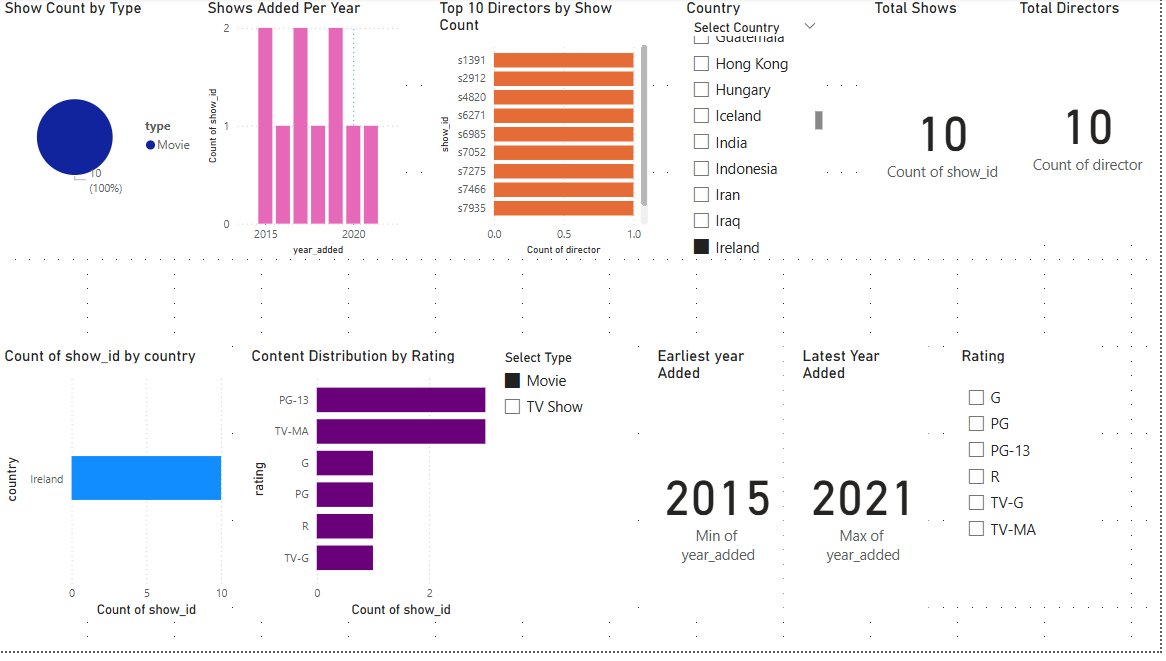

This screenshot's page, from the dashboard's own definition file:
{"tool":"powerbi","page":{"name":"Page 1","canvas":[1280,720],"ordinal":0},"visuals":[{"type":"pieChart","fields":{"Category":["netflix_titles.type"],"Y":["CountNonNull(netflix_titles.show_id)"]},"box":[0,0,224,288],"z":0},{"type":"clusteredColumnChart","fields":{"Category":["netflix_titles.year_added"],"Y":["CountNonNull(netflix_titles.show_id)"]},"box":[272,0,272,288],"z":1000},{"type":"barChart","fields":{"Category":["netflix_titles.country"],"Y":["CountNonNull(netflix_titles.show_id)"]},"box":[0,384,384,272],"z":2000},{"type":"barChart","fields":{"Category":["netflix_titles.show_id"],"Y":["CountNonNull(netflix_titles.director)"]},"box":[560,0,272,288],"z":3000},{"type":"clusteredBarChart","fields":{"Category":["netflix_titles.rating"],"Y":["CountNonNull(netflix_titles.show_id)"]},"box":[560,384,272,272],"z":4000}]}

Visuals, with their boxes in screenshot pixels (x1, y1, x2, y2), scaled from the page's 1280x720 canvas onto the 1166x661 screenshot:
pieChart - netflix_titles.type x CountNonNull(netflix_titles.show_id): pyautogui.locateOnScreen(0, 0, 204, 264)
clusteredColumnChart - netflix_titles.year_added x CountNonNull(netflix_titles.show_id): pyautogui.locateOnScreen(248, 0, 496, 264)
barChart - netflix_titles.country x CountNonNull(netflix_titles.show_id): pyautogui.locateOnScreen(0, 353, 350, 602)
barChart - netflix_titles.show_id x CountNonNull(netflix_titles.director): pyautogui.locateOnScreen(510, 0, 758, 264)
clusteredBarChart - netflix_titles.rating x CountNonNull(netflix_titles.show_id): pyautogui.locateOnScreen(510, 353, 758, 602)
